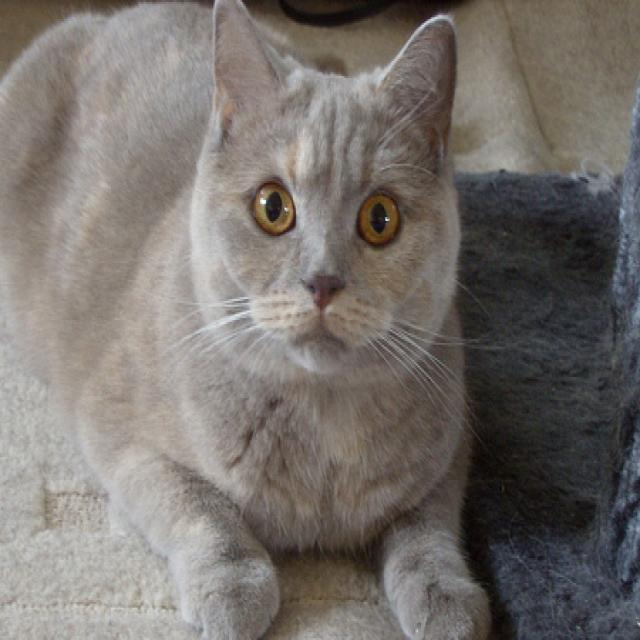British Shorthair: (0, 0, 494, 640)
